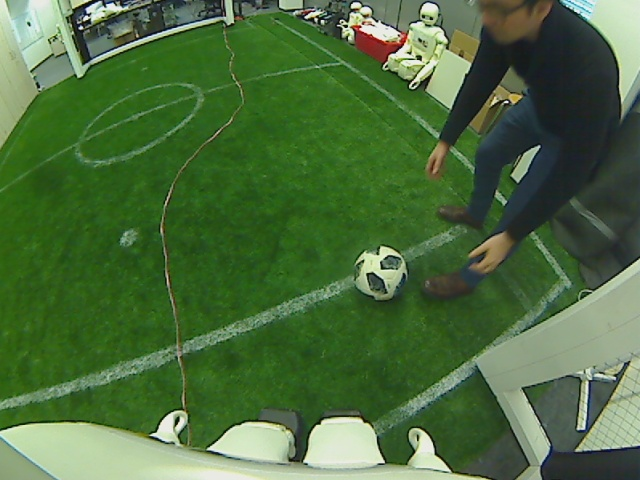ball: (350, 245, 408, 299)
